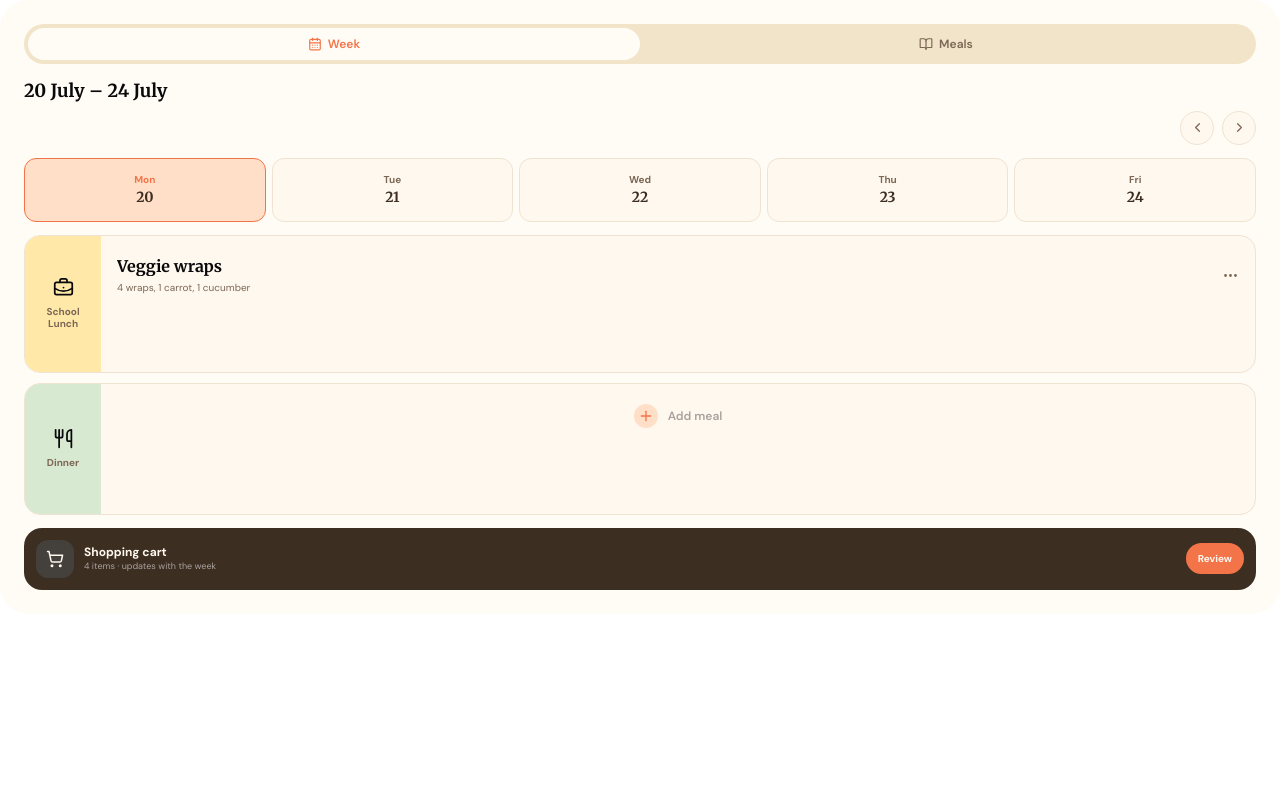
Test: WeekRoute › keeps the mobile shopping cart open when sending fails
Click the button "Review".
click(1215, 558)  # box x1=1186 y1=543 x2=1244 y2=574
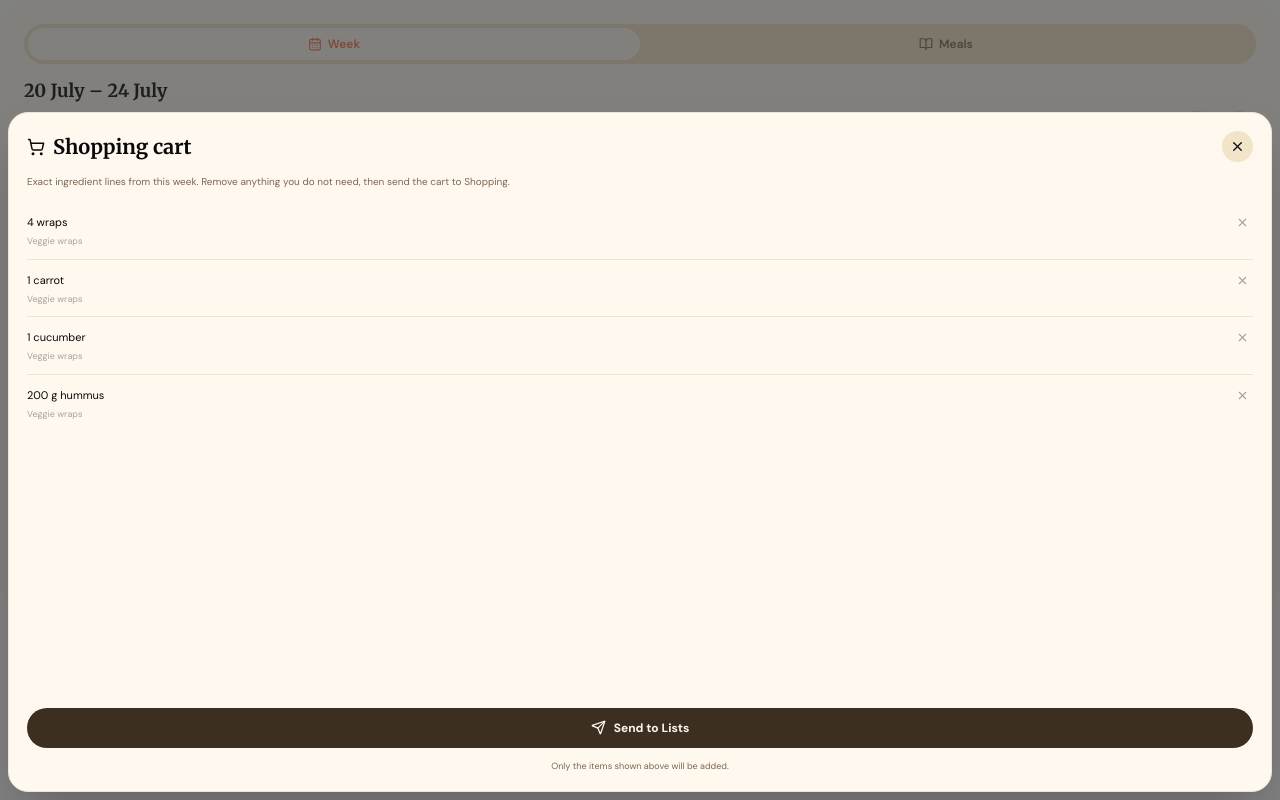
Click the button "Send to Lists".
click(640, 728)  # box x1=27 y1=708 x2=1253 y2=748
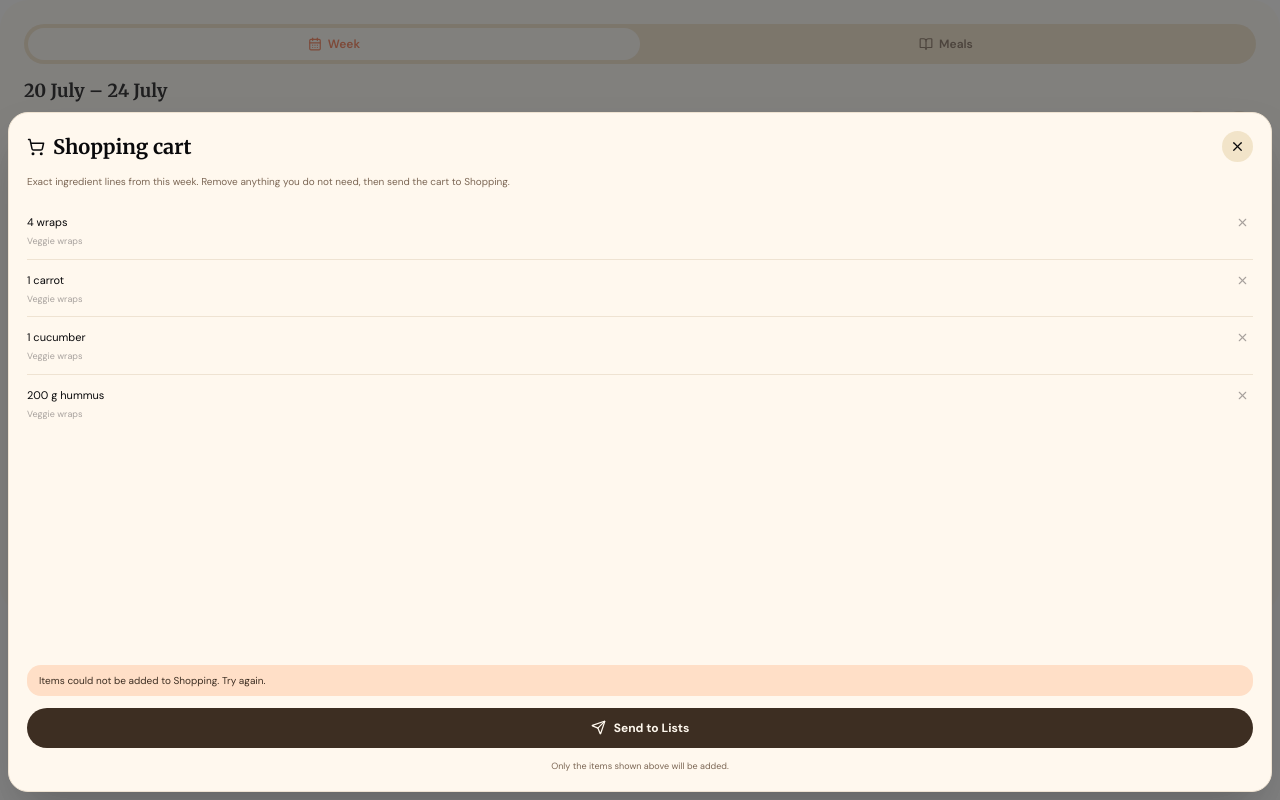
Result: the message reads "Items could not be added to Shopping. Try again." at x1=39 y1=674 x2=266 y2=686
